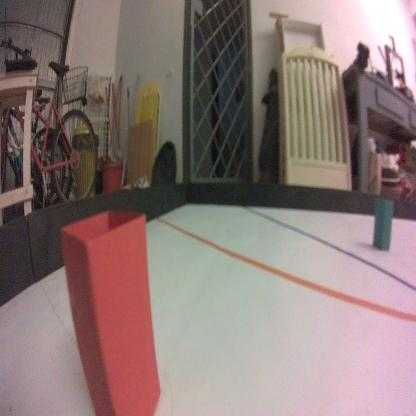green: (371, 197, 395, 252)
red: (60, 209, 162, 416)
